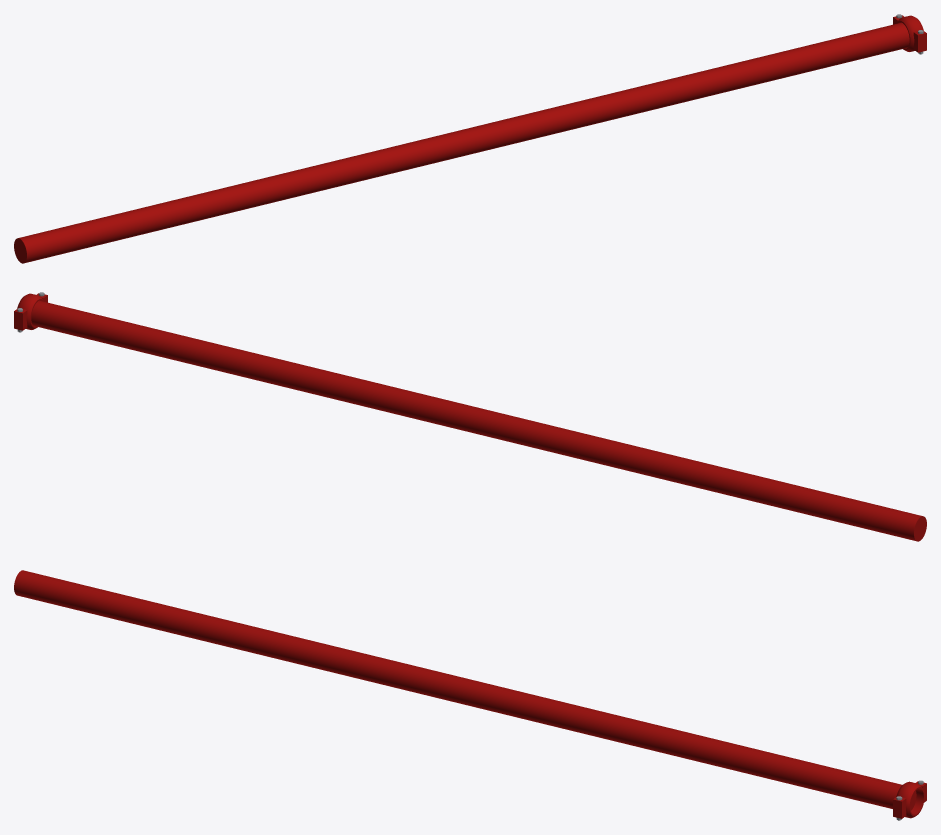
File: PipeRun.obj
The picture shows the model from 3 angles, top to bottom: view 1: azimuth 30°, elevation 25°; view 2: azimuth 150°, elevation 25°; view 3: azimuth 330°, elevation 25°; orthographic projection.
Parts seen in each view (by area): view 1: PipeRun; view 2: PipeRun; view 3: PipeRun.
Part boxes in pixels (x1,y1,x2,y2): PipeRun: (14,14,926,263); PipeRun: (14,292,926,541); PipeRun: (14,570,926,820).
Bounding box in the file's own units: 3.02 × 0.104 × 0.146.
